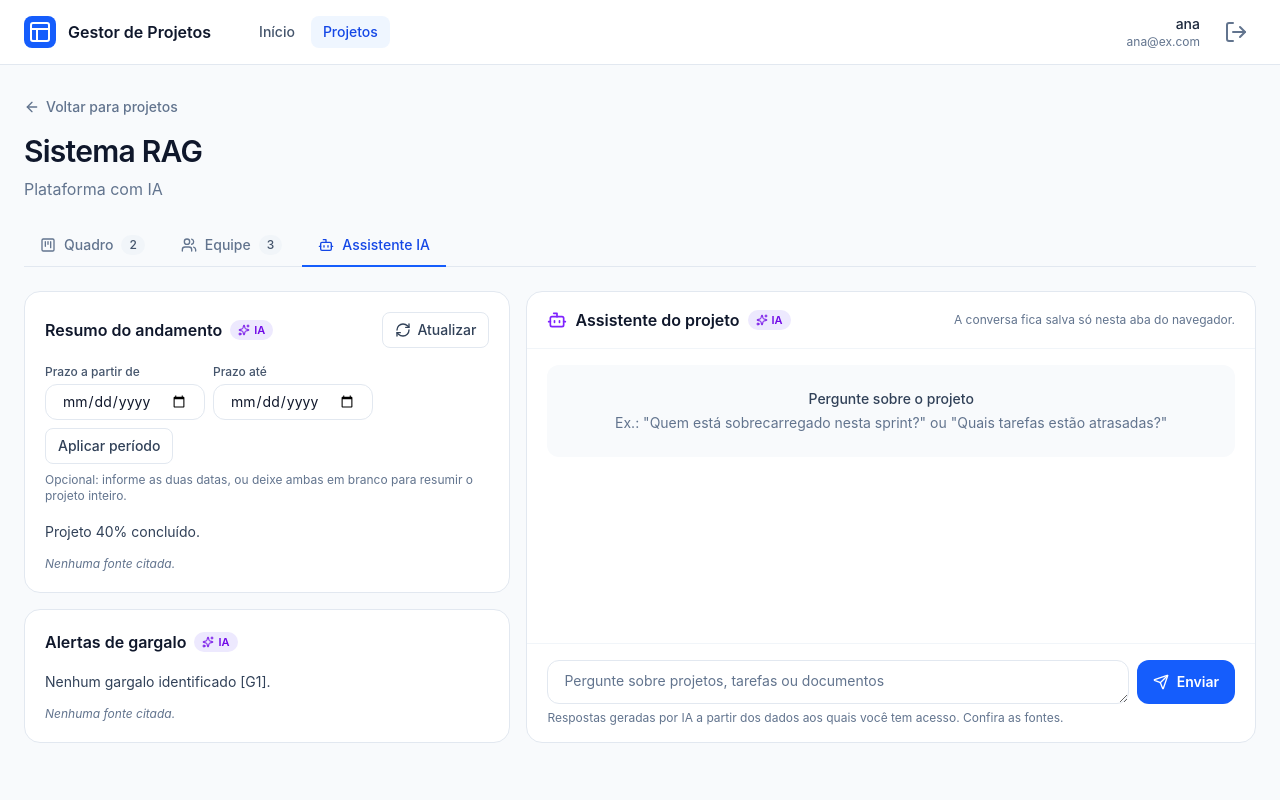
Test case: Assistente e resumo › responde com fontes e aviso de resposta alternativa, e bloqueia envio duplicado
Expected: the text "A conversa fica salva só nesta aba do navegador." is shown, x1=954 y1=312 x2=1235 y2=328
Step 1. Type "Quem está sobrecarregado?" into the text box named "Pergunta para o assistente" → (838, 682), box x1=547 y1=660 x2=1129 y2=704
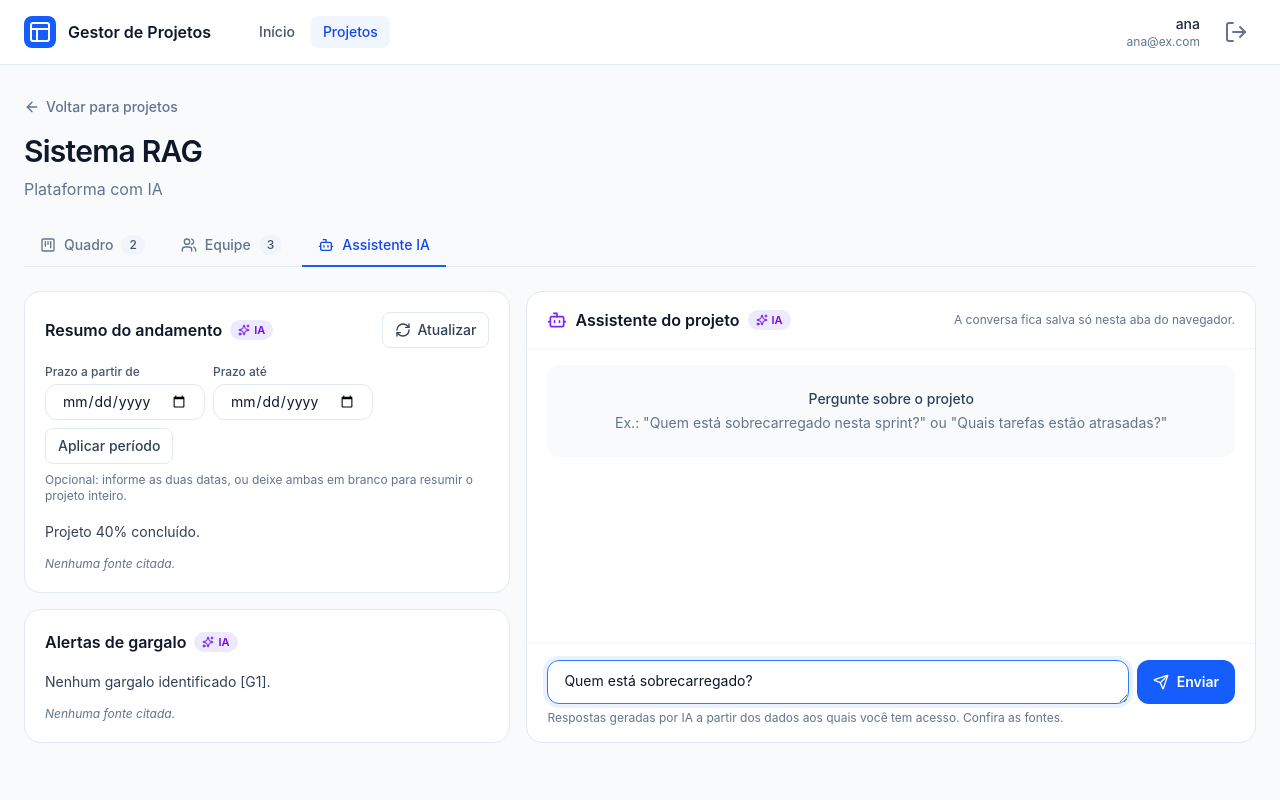
Step 2. Click the button "Enviar" → (1186, 682), box x1=1137 y1=660 x2=1235 y2=704
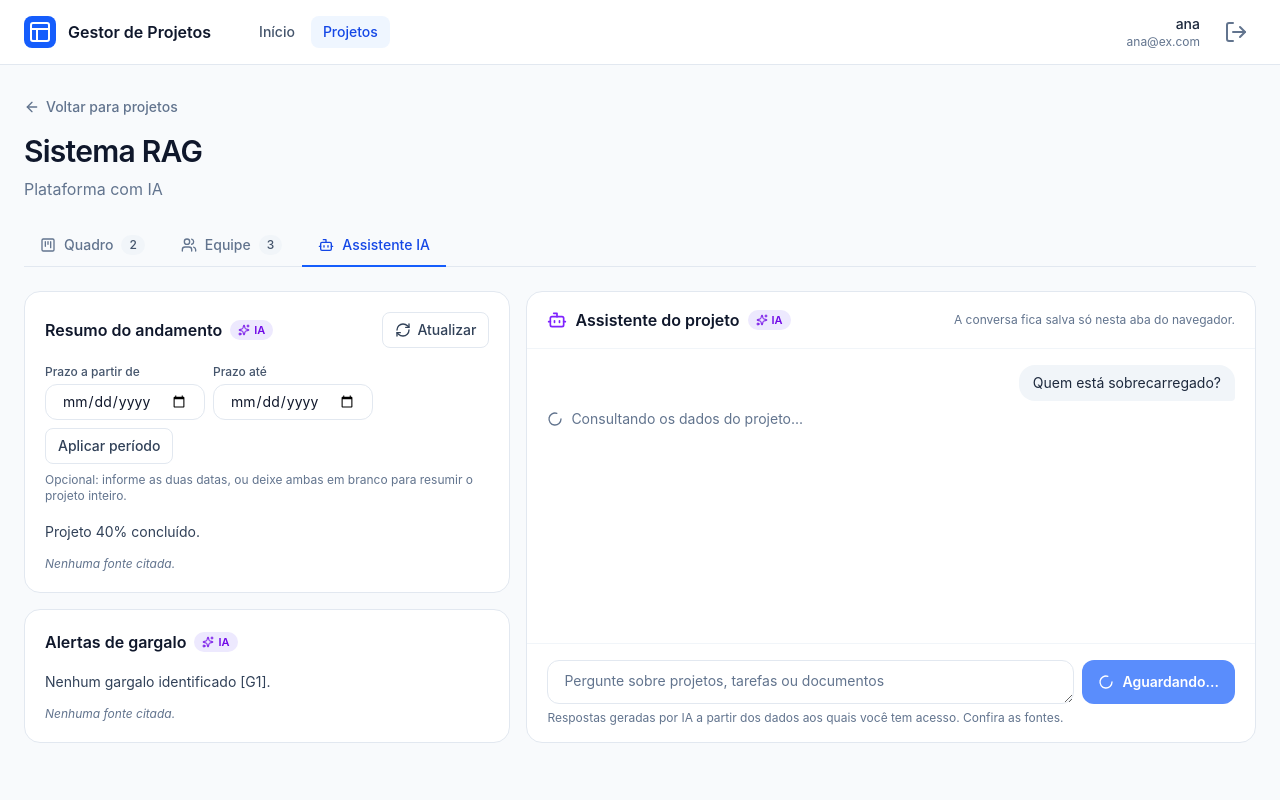
Now the button "Aguardando..." is disabled, box x1=1082 y1=660 x2=1235 y2=704
Step 3. Type "De novo" into the text box named "Pergunta para o assistente" → (811, 682), box x1=547 y1=660 x2=1074 y2=704
Then press Enter
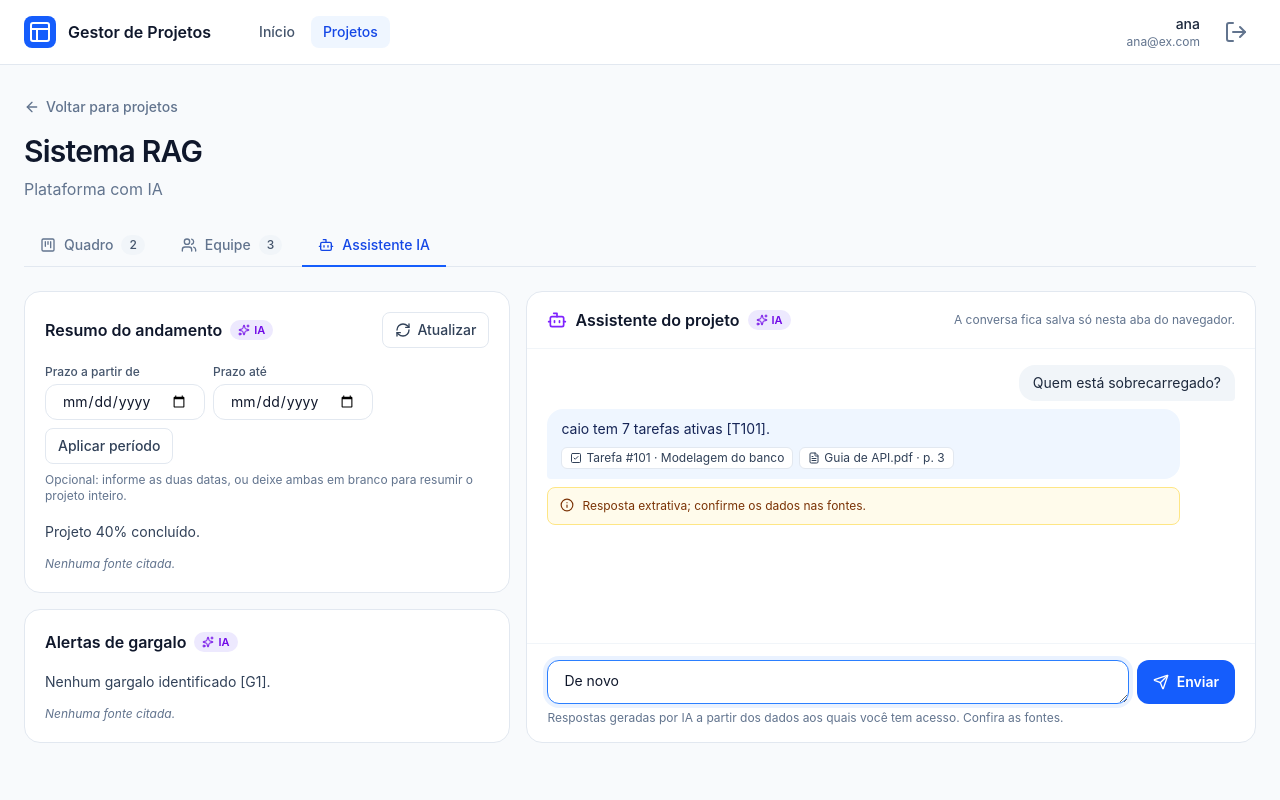
Now the text "caio tem 7 tarefas ativas [T101]." is shown, box x1=561 y1=420 x2=770 y2=437
Now the text "Guia de API.pdf · p. 3" is shown, box x1=824 y1=450 x2=945 y2=466
Now the element showing "Resposta extrativa; confirme os dados nas fontes." is shown, box x1=547 y1=487 x2=1180 y2=525
Step 4. Click the button "Tarefa #101 · Modelagem do banco" → (677, 458), box x1=561 y1=447 x2=793 y2=469
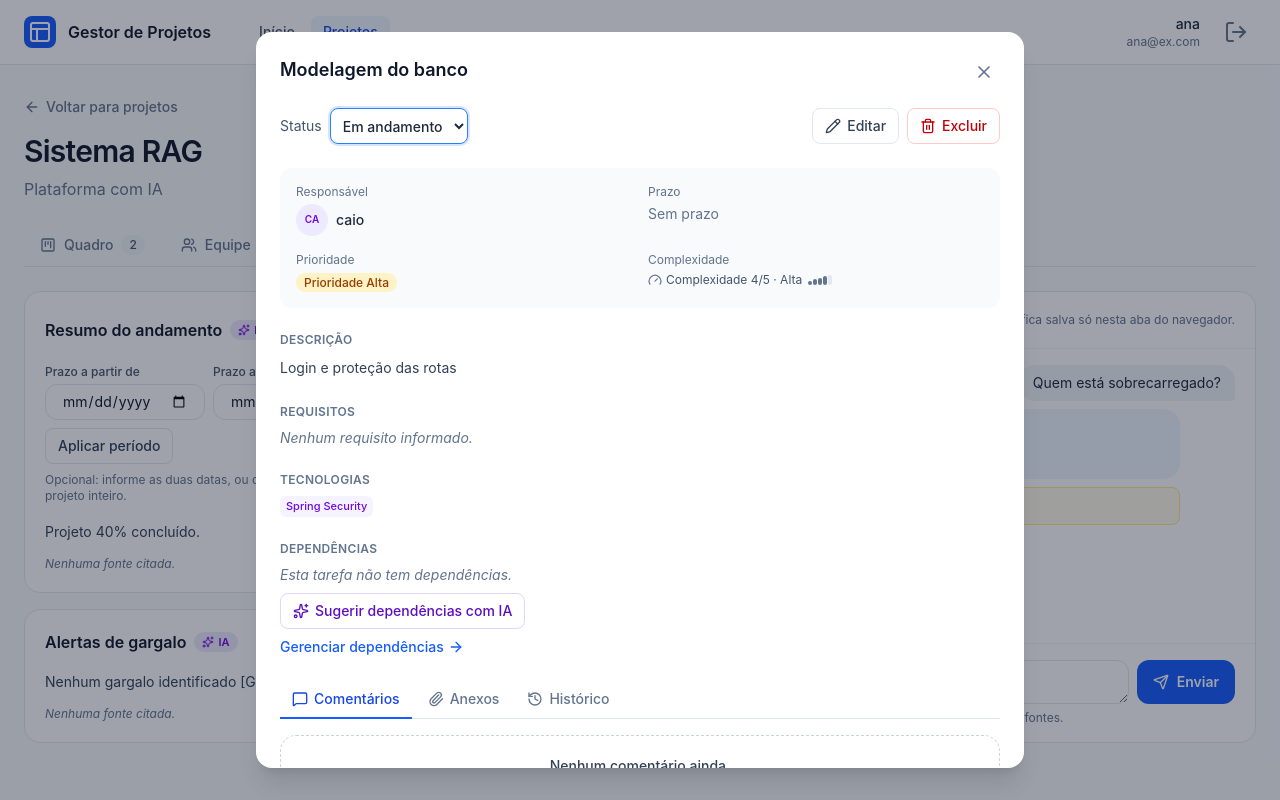
Now the dialog "Modelagem do banco" is shown, box x1=256 y1=32 x2=1024 y2=768
